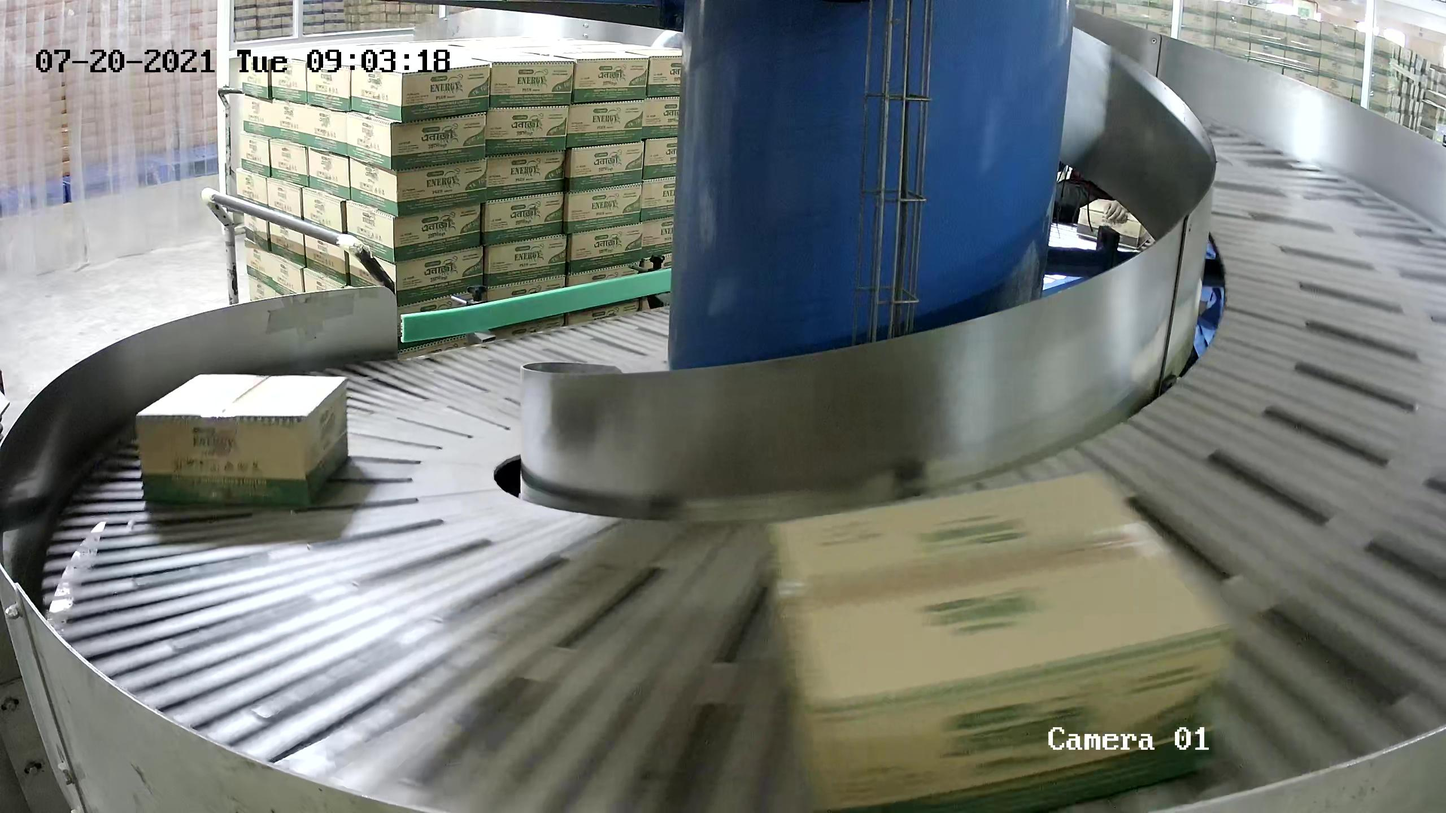Box: (764, 467, 1240, 813), (135, 371, 350, 507)
